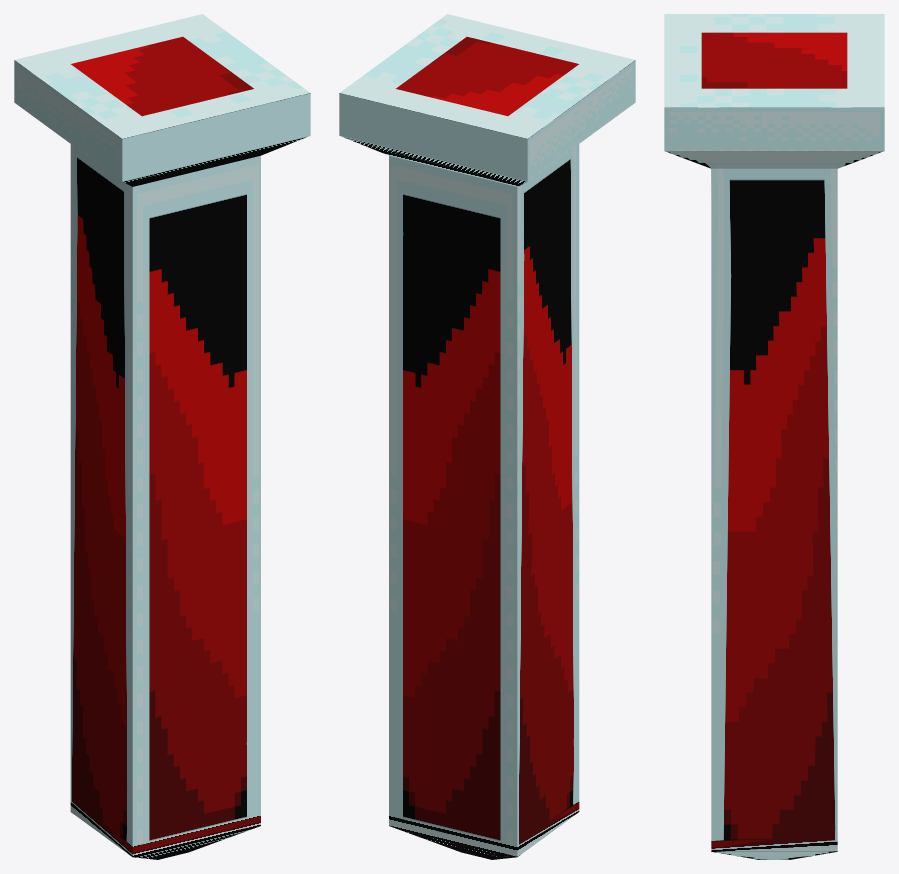
The model's file is Game1TestTube.glb.
3 renders of one model, left to right at view 1: azimuth 30°, elevation 25°; view 2: azimuth 150°, elevation 25°; view 3: azimuth 270°, elevation 25°, orthographic.
Parts seen in each view (by area): view 1: Cube; view 2: Cube; view 3: Cube.
Part boxes in pixels (left/top/right/bottom): Cube: left=14, top=14, right=310, bottom=859; Cube: left=339, top=14, right=635, bottom=859; Cube: left=664, top=14, right=884, bottom=859.
Bounding box in the file's own units: 0.7297 × 2.87 × 0.7249.
Materials: 1 (1 with a texture image).
